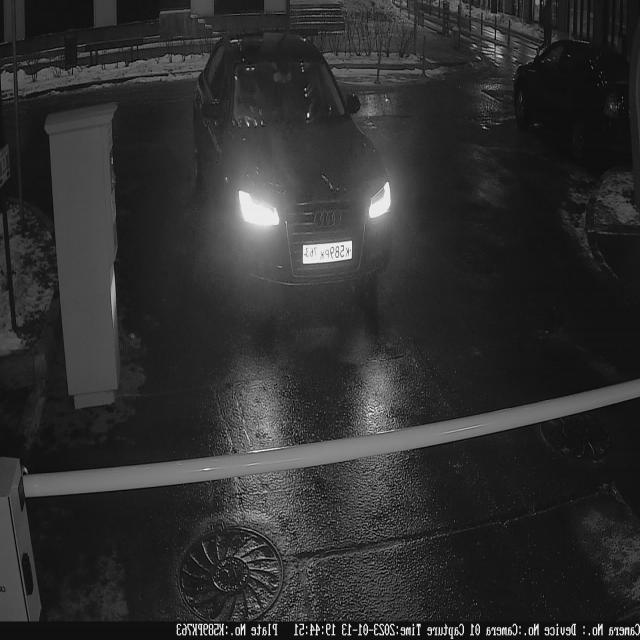car-plate-numbers: (301, 236, 358, 272)
